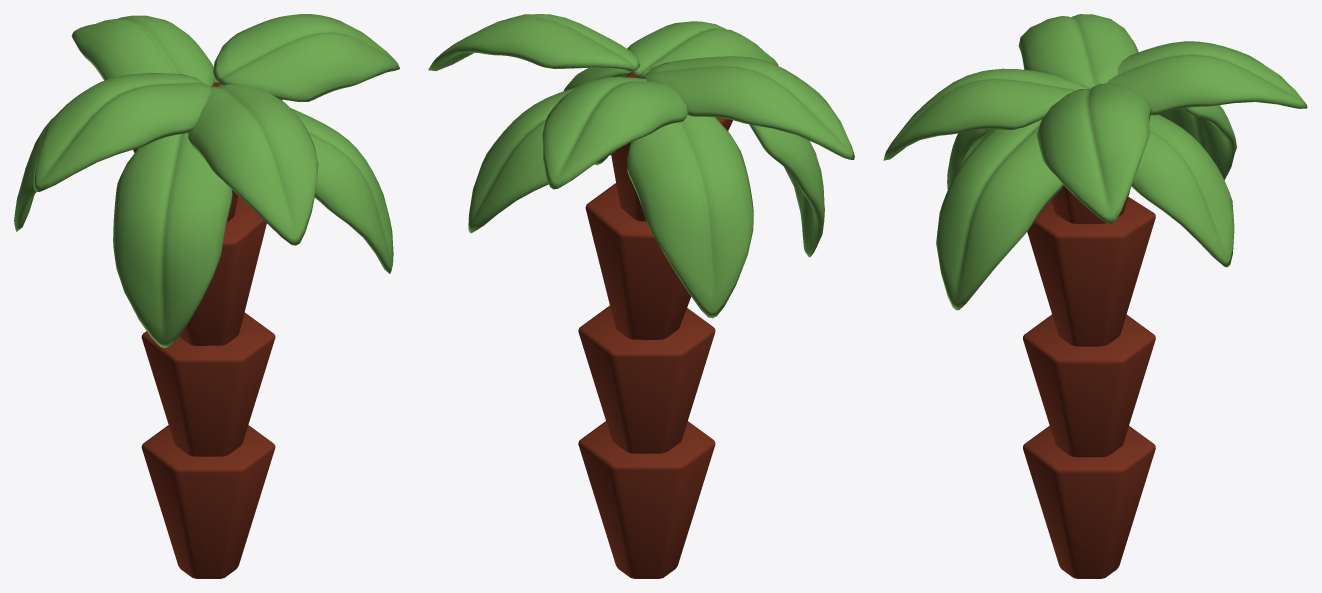
Rendered from tree2.fbx.
3 renders of one model, left to right at view 1: azimuth 30°, elevation 25°; view 2: azimuth 150°, elevation 25°; view 3: azimuth 270°, elevation 25°, orthographic. The views are drawn at different scales.
Visible parts, largest first — view 1: tree2; view 2: tree2; view 3: tree2.
Part boxes in pixels (x1,y1,x2,y2): tree2: [14, 14, 399, 578]; tree2: [428, 14, 854, 578]; tree2: [883, 14, 1307, 578].
Size of the model in its own units: 429 by 546 by 408.
